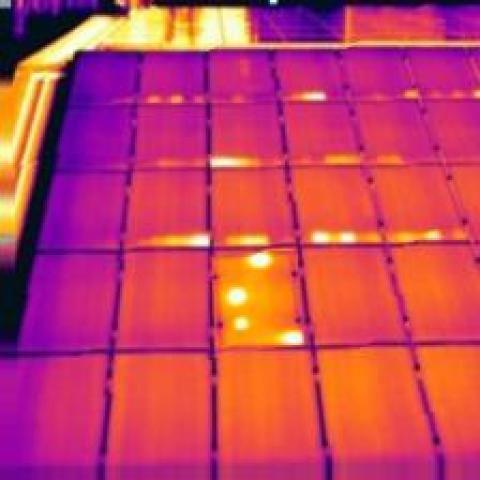fault: (144, 232, 210, 246), (384, 225, 444, 240), (276, 326, 306, 347), (317, 152, 364, 165), (208, 157, 266, 167), (221, 283, 246, 304), (283, 90, 330, 101), (245, 251, 275, 268), (221, 234, 272, 242), (373, 152, 405, 163), (146, 92, 163, 112), (309, 230, 330, 244), (336, 230, 356, 244), (403, 82, 420, 96), (232, 315, 246, 330), (172, 92, 184, 109), (469, 86, 478, 96)
